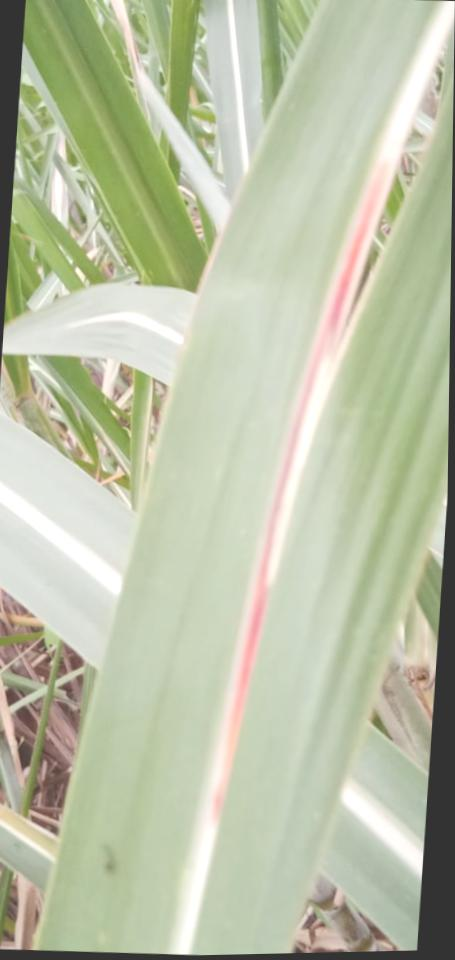Yellow: (212, 161, 389, 820)
